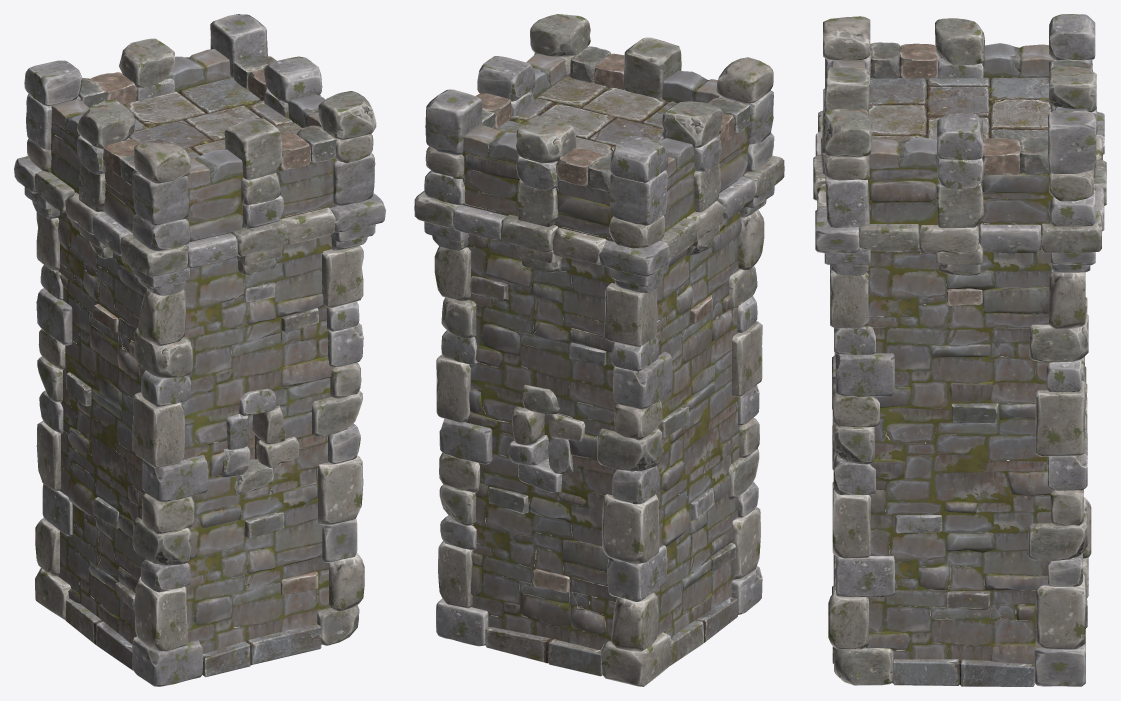
The picture shows the model from 3 angles, left to right: view 1: azimuth 30°, elevation 25°; view 2: azimuth 150°, elevation 25°; view 3: azimuth 270°, elevation 25°; orthographic projection. The views are drawn at different scales.
Parts seen in each view (by area): view 1: SM_Castle_Tower_4x10_01_v1_LOD0; view 2: SM_Castle_Tower_4x10_01_v1_LOD0; view 3: SM_Castle_Tower_4x10_01_v1_LOD0.
Part boxes in pixels (x1,y1,x2,y2): SM_Castle_Tower_4x10_01_v1_LOD0: [14, 14, 385, 686]; SM_Castle_Tower_4x10_01_v1_LOD0: [414, 14, 784, 686]; SM_Castle_Tower_4x10_01_v1_LOD0: [813, 14, 1106, 686].
Bounding box in the file's own units: 3.98 × 8.59 × 4.06.
5 materials, 5 textured.
